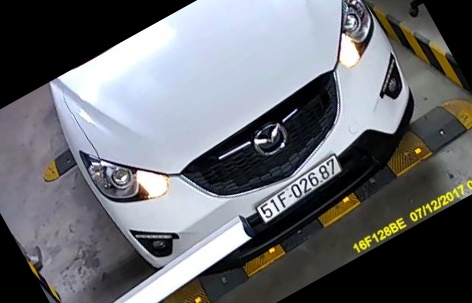plate: (248, 158, 357, 222)
